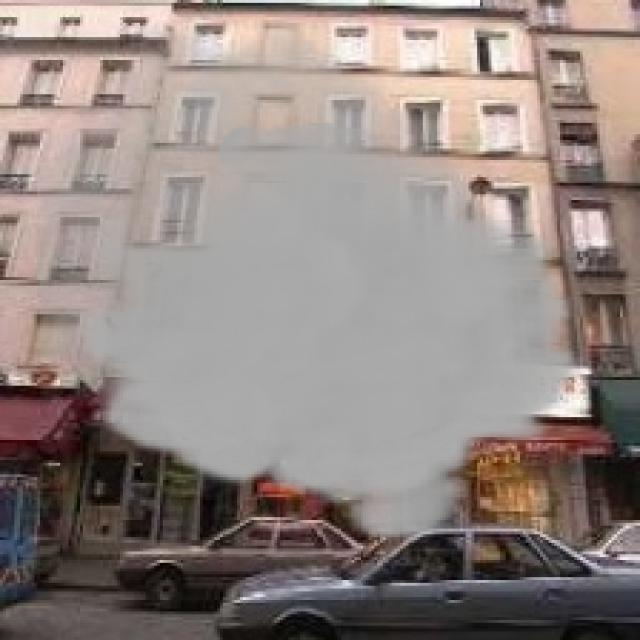smoke: (37, 6, 586, 546)
